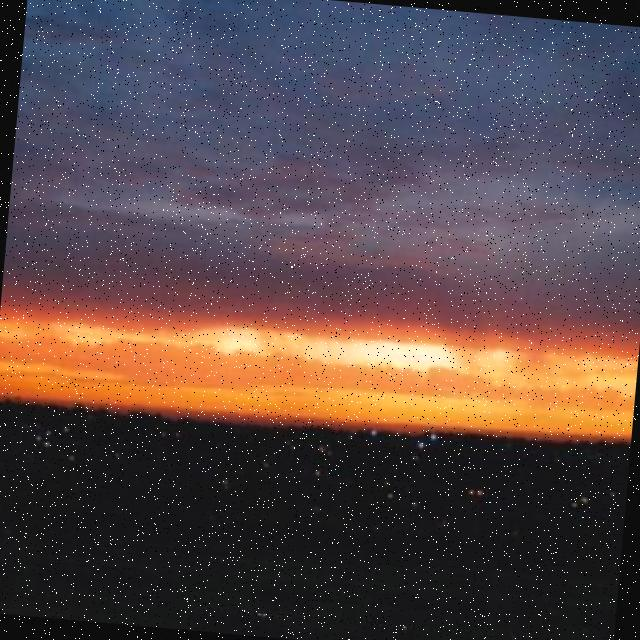As: (1, 1, 640, 430)
